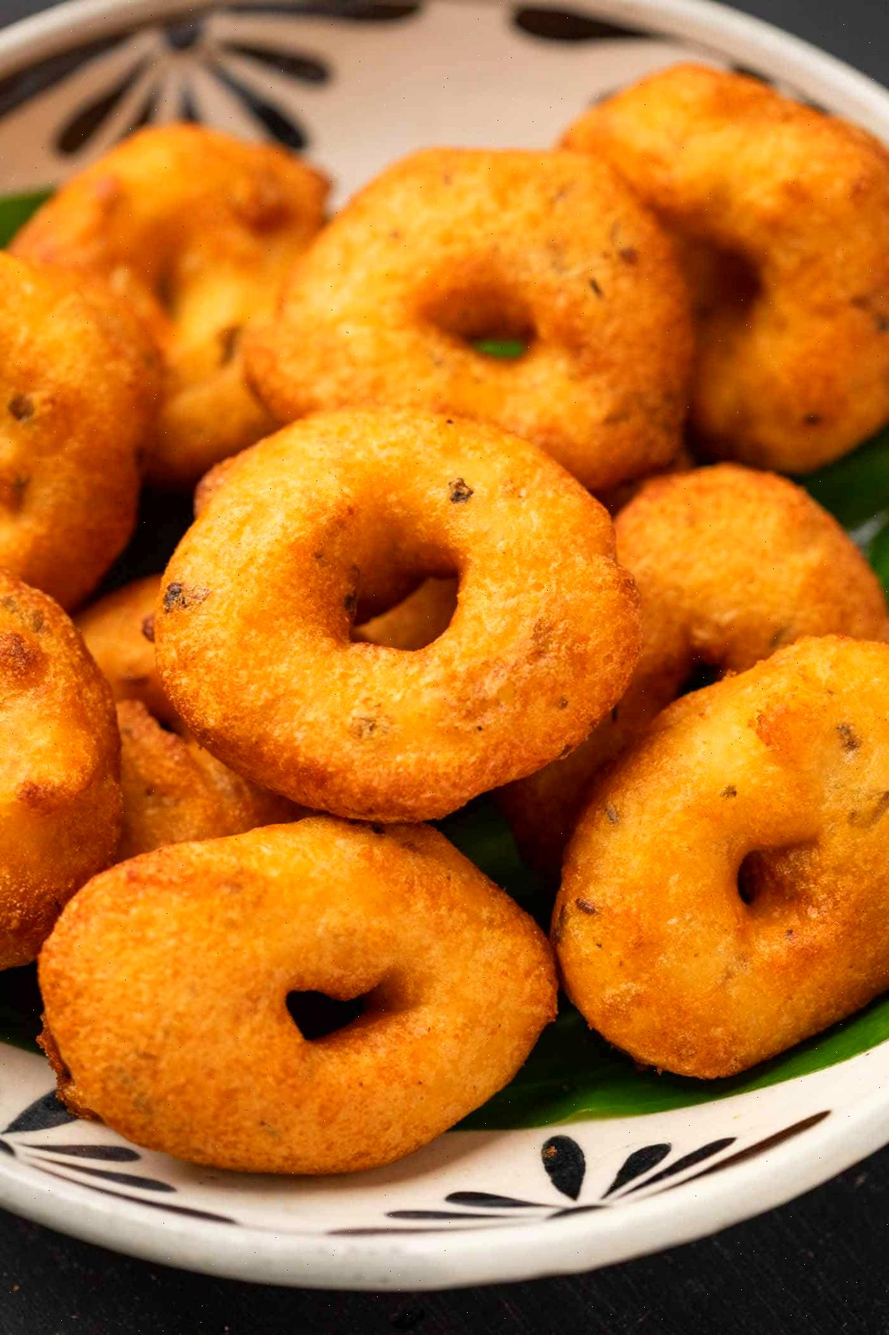medu vada: (4, 75, 879, 1104)
